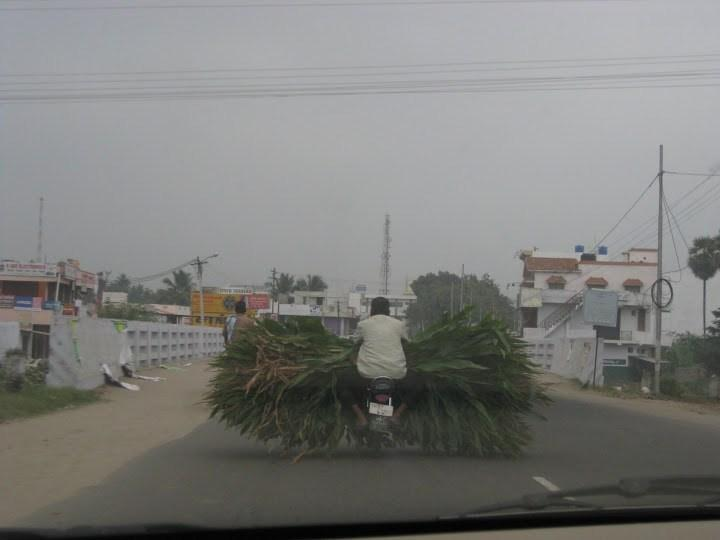airplane: (98, 360, 151, 390)
backpack: (345, 404, 396, 449), (362, 379, 399, 429), (369, 377, 393, 404)
baseball glove: (369, 377, 393, 404)
bench: (235, 343, 444, 457), (308, 371, 531, 453), (211, 370, 366, 459), (337, 321, 422, 452), (373, 381, 496, 451), (320, 384, 439, 454), (281, 388, 384, 456), (272, 364, 344, 459), (207, 407, 339, 458), (100, 321, 160, 390), (343, 383, 403, 450), (320, 398, 394, 452), (348, 409, 395, 450), (98, 360, 151, 390), (190, 313, 222, 327)
bicycle: (208, 352, 408, 462), (308, 367, 470, 448), (274, 378, 414, 458), (319, 339, 416, 451), (234, 401, 386, 459), (352, 309, 409, 442), (249, 381, 345, 456), (289, 344, 362, 431), (301, 382, 377, 454), (329, 341, 392, 425), (284, 389, 355, 461), (314, 354, 367, 446), (340, 366, 397, 450), (320, 398, 394, 452), (271, 406, 337, 462), (358, 385, 414, 449), (330, 375, 374, 447), (362, 353, 401, 428), (289, 384, 330, 451), (284, 425, 355, 463), (345, 404, 402, 449), (303, 403, 353, 452), (353, 379, 394, 437), (340, 371, 383, 422), (332, 364, 368, 424), (326, 354, 363, 411), (359, 382, 403, 420), (310, 391, 341, 444), (336, 401, 367, 448), (349, 400, 379, 447), (339, 421, 389, 448), (359, 415, 395, 449), (321, 414, 355, 450), (365, 377, 393, 408)
bird: (363, 334, 538, 453), (399, 375, 511, 451), (98, 361, 130, 390)
boat: (219, 305, 556, 457), (394, 288, 546, 452), (313, 353, 536, 455), (395, 375, 532, 452), (98, 319, 136, 384), (98, 360, 151, 390)
car: (36, 368, 717, 528), (188, 319, 566, 460), (359, 297, 549, 451), (194, 332, 399, 458), (605, 384, 629, 397), (631, 384, 653, 398), (639, 385, 660, 399)
chair: (395, 375, 532, 452), (278, 367, 351, 458), (343, 383, 403, 450), (348, 409, 395, 450), (362, 379, 399, 429)
cow: (188, 319, 566, 460), (194, 332, 399, 458), (363, 334, 538, 453), (397, 378, 530, 452), (220, 297, 252, 348)
dog: (387, 314, 540, 455), (308, 371, 531, 453), (399, 375, 511, 451), (353, 379, 394, 437), (345, 404, 396, 449), (366, 378, 394, 413)
elephant: (396, 306, 542, 454), (395, 375, 532, 452), (220, 299, 251, 347)
fire hydrant: (202, 321, 366, 455), (219, 297, 250, 348)
handbag: (353, 379, 394, 437), (345, 404, 396, 449), (340, 371, 383, 422), (332, 364, 368, 424), (363, 378, 399, 420), (369, 377, 393, 404), (366, 397, 394, 417)
horse: (195, 320, 550, 457), (387, 314, 540, 455), (327, 333, 474, 456), (342, 376, 519, 453), (220, 299, 249, 346)
kite: (390, 292, 543, 451)
motorcycle: (235, 343, 444, 457), (292, 376, 441, 455), (345, 325, 401, 444), (279, 365, 349, 458), (294, 397, 385, 456), (310, 368, 368, 451), (354, 374, 419, 447), (358, 398, 447, 451), (331, 367, 405, 430), (337, 383, 398, 450), (362, 353, 401, 428), (329, 391, 375, 447), (354, 378, 392, 438), (349, 407, 392, 448), (359, 382, 403, 420), (361, 415, 405, 447), (342, 403, 371, 449), (357, 426, 397, 449)
person: (272, 302, 477, 453), (356, 290, 500, 445), (396, 306, 542, 454), (308, 371, 531, 453), (238, 322, 361, 457), (339, 333, 444, 450), (290, 319, 380, 454), (397, 337, 500, 435), (399, 375, 511, 451), (349, 294, 411, 429), (331, 328, 397, 448), (277, 349, 349, 451), (388, 352, 462, 451), (258, 327, 324, 438), (215, 317, 279, 430), (249, 381, 345, 456), (236, 321, 300, 421), (313, 381, 399, 454), (350, 358, 405, 451), (206, 292, 263, 347), (362, 379, 399, 429), (219, 297, 250, 348), (97, 361, 137, 391), (229, 306, 255, 347), (117, 326, 135, 377), (220, 306, 238, 344), (229, 299, 248, 334), (220, 296, 238, 331), (222, 294, 245, 321), (217, 300, 233, 336), (97, 362, 117, 386), (232, 295, 246, 314)
potted plant: (188, 319, 566, 460), (394, 288, 546, 452), (207, 328, 339, 456), (391, 365, 536, 453), (203, 359, 292, 455), (221, 322, 328, 399), (231, 325, 300, 440), (209, 391, 332, 455), (254, 331, 332, 429), (470, 343, 538, 453), (214, 318, 269, 441), (275, 357, 340, 454), (247, 357, 303, 456)
sheep: (351, 369, 534, 451)
skateboard: (332, 373, 419, 453), (358, 398, 447, 451), (357, 384, 399, 448), (364, 405, 413, 448), (348, 409, 395, 450), (98, 362, 149, 391), (349, 399, 393, 428), (387, 403, 415, 447), (355, 390, 395, 419), (366, 377, 394, 417), (366, 397, 394, 417)
suitcase: (353, 379, 394, 437), (345, 404, 396, 449), (365, 379, 395, 417), (366, 397, 394, 417)
surfboard: (342, 376, 519, 453), (98, 360, 151, 390), (99, 367, 133, 390)
tennis racket: (649, 278, 672, 307)
traffic light: (706, 306, 719, 336)
train: (159, 314, 601, 464)
truck: (27, 300, 720, 517), (188, 319, 566, 460), (390, 292, 543, 451), (188, 285, 266, 324), (212, 291, 255, 339)
umbrella: (394, 288, 546, 452), (395, 375, 532, 452)
